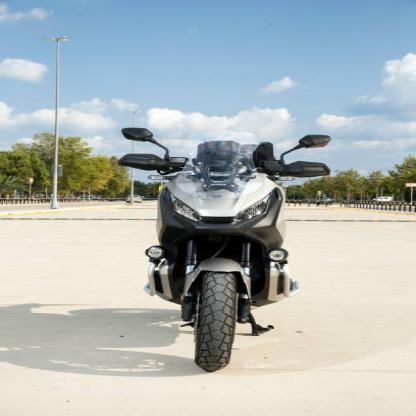Motorcycle: (106, 116, 333, 374)
